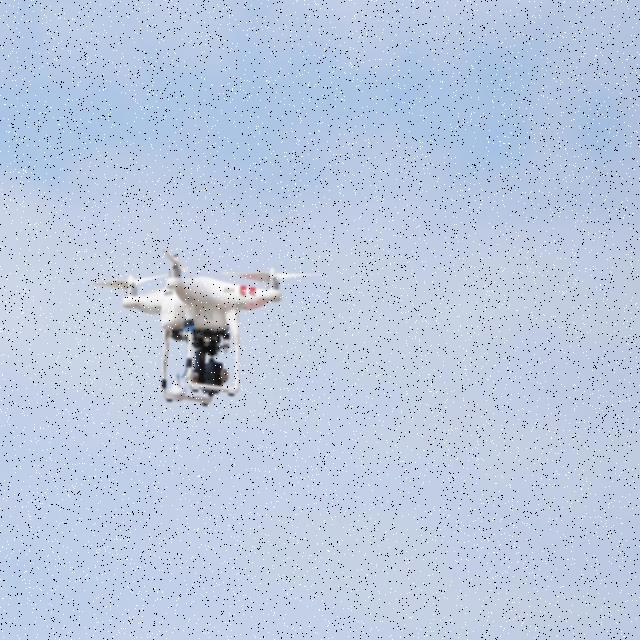UAV: (121, 253, 285, 409)
